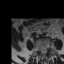CCS_stenosis: (43, 48, 44, 56)
LFS_normal: (46, 47, 48, 53)
LLS_normal: (44, 48, 46, 55)
RFS_normal: (39, 47, 41, 53)
RLS_normal: (41, 48, 43, 55)
